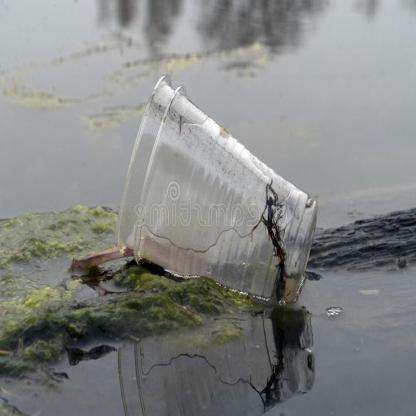Plastic: (116, 69, 326, 308)
